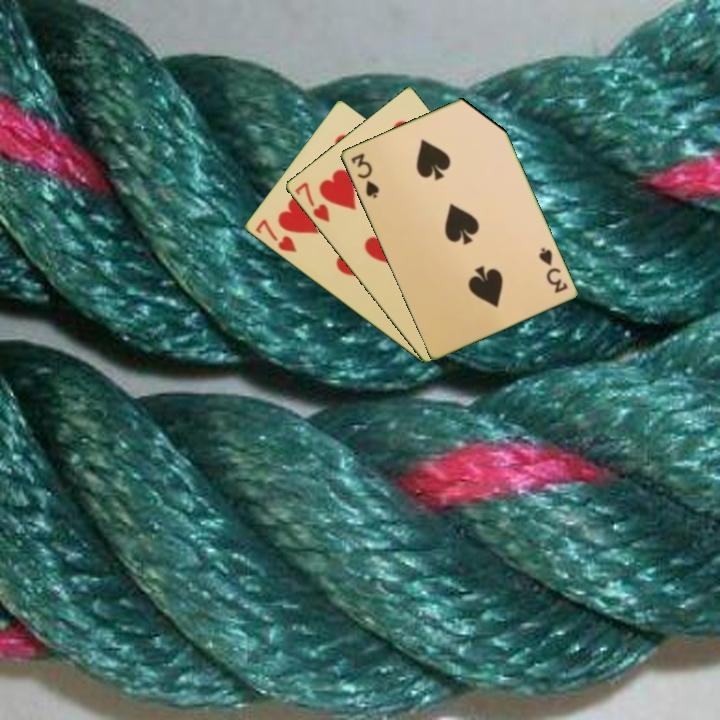3s: (347, 149, 382, 201), (535, 244, 570, 296)
7h: (251, 215, 299, 256), (291, 179, 333, 225)
